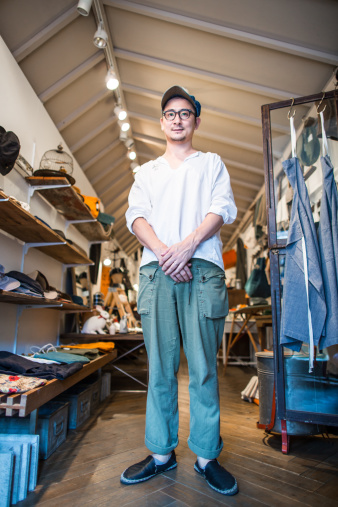em pe: (118, 79, 239, 484)
